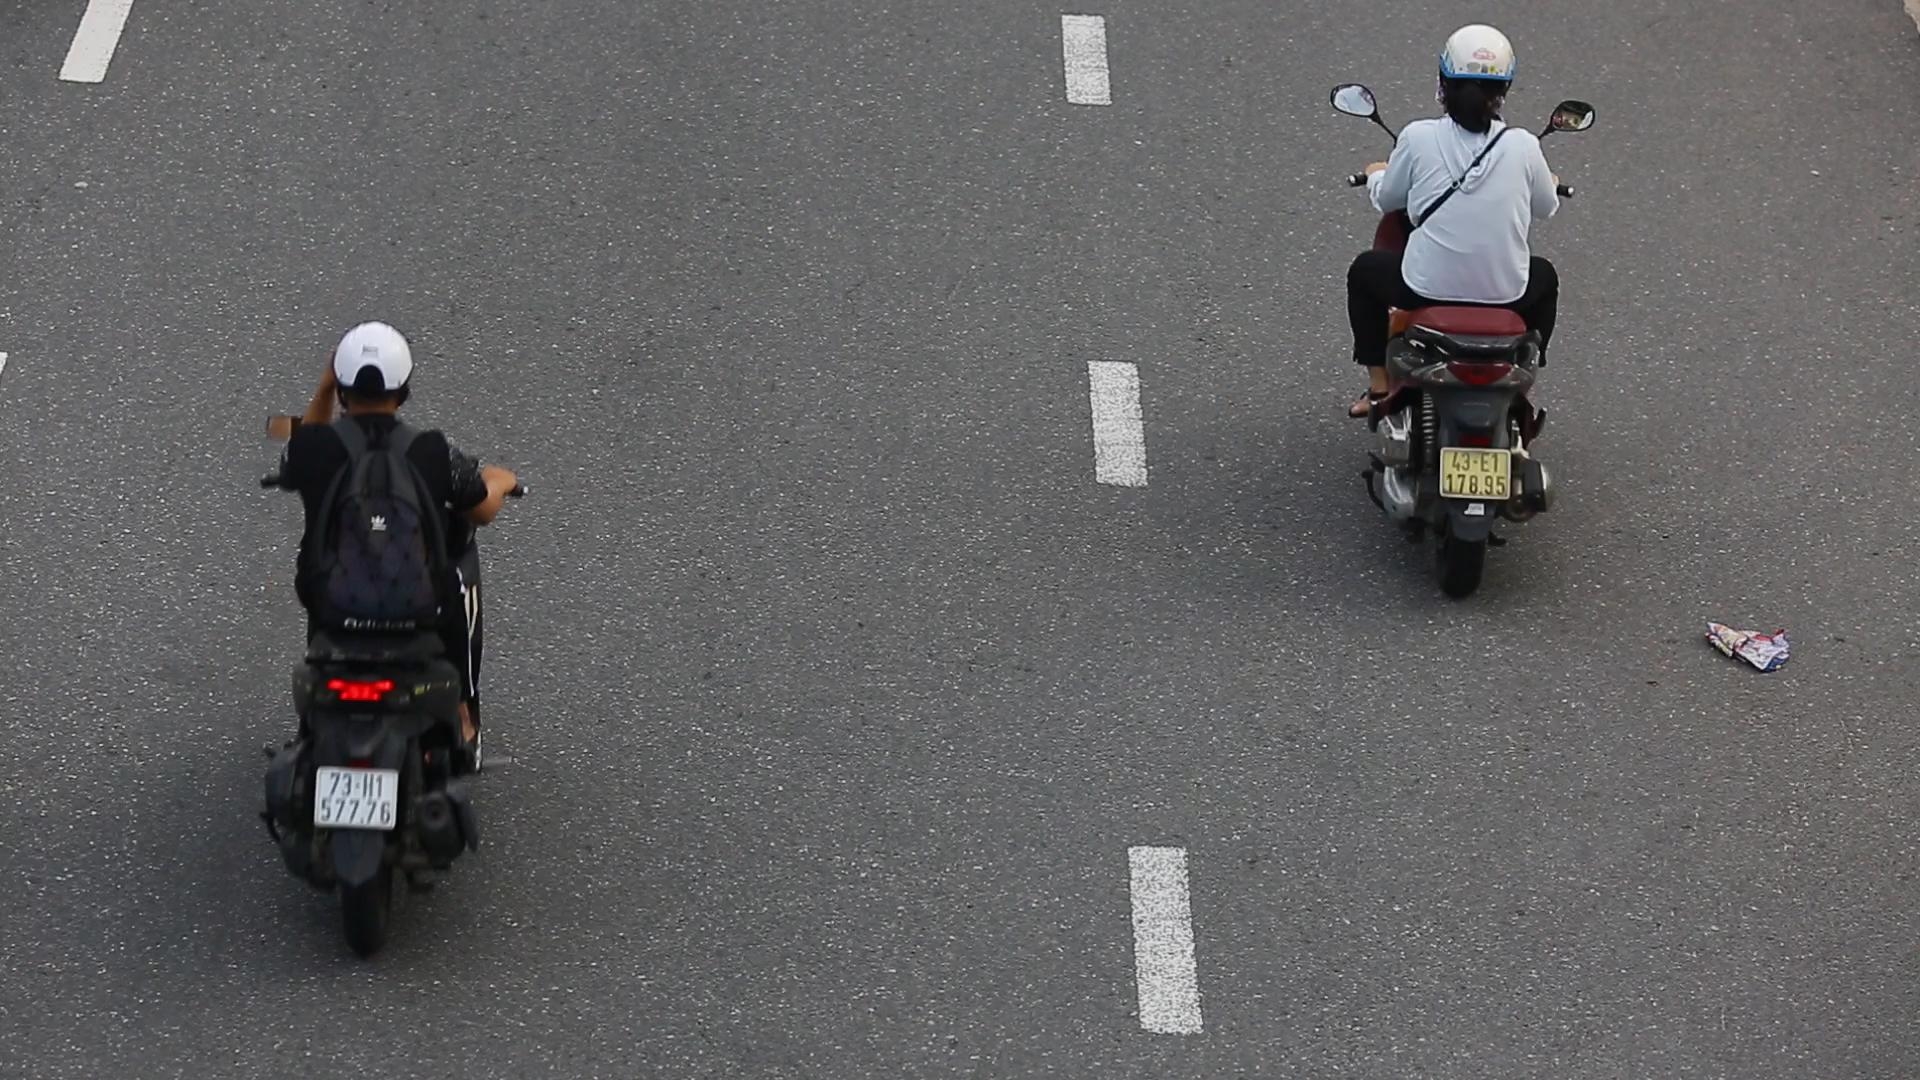motobike: (247, 314, 542, 965), (1327, 18, 1605, 616)
